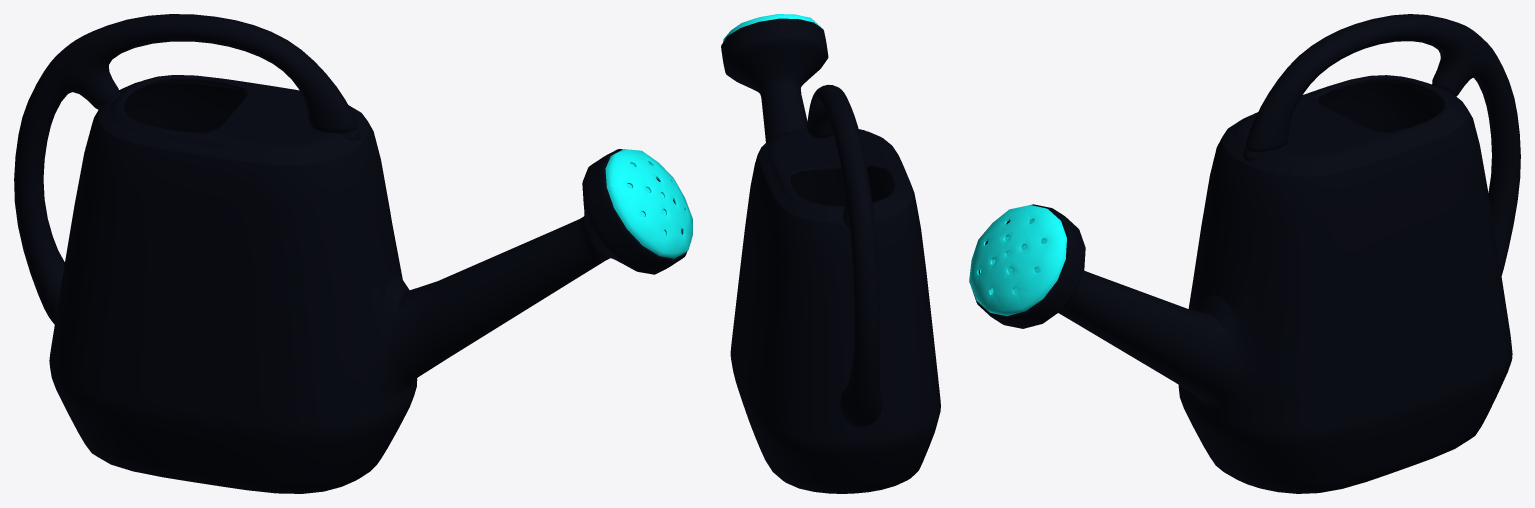
3 views of the same model, side by side, from view 1: azimuth 30°, elevation 25°; view 2: azimuth 150°, elevation 25°; view 3: azimuth 270°, elevation 25° (orthographic). The views are drawn at different scales.
Visible parts, largest first — view 1: body.002, handle, spout; view 2: body.002, handle, spout; view 3: body.002, handle, spout.
Boxes of the visible parts, x1,y1,x2,y2 form: body.002: (49, 75, 691, 493); handle: (14, 14, 360, 324); spout: (605, 149, 692, 258); body.002: (721, 18, 940, 493); handle: (807, 84, 882, 427); spout: (723, 14, 820, 42); body.002: (971, 75, 1512, 493); handle: (1243, 14, 1520, 275); spout: (969, 205, 1066, 316).
Bounding box in the file's own units: 40.05 × 45.52 × 37.56.
